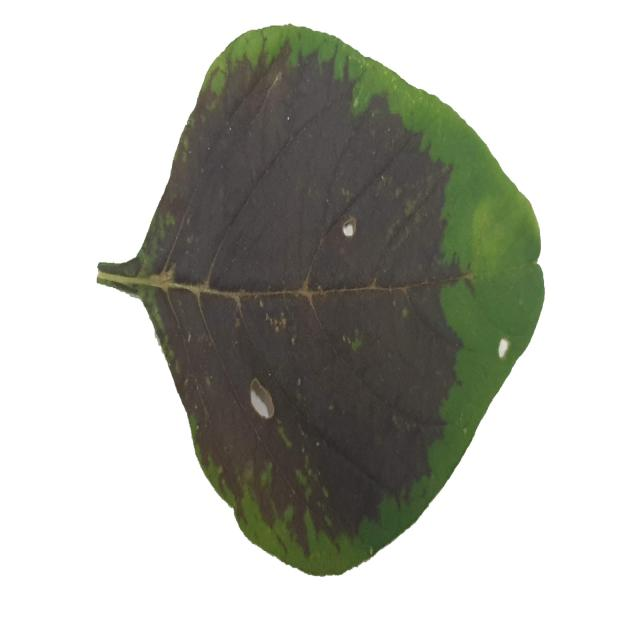Medicinal-Arive Dantu: (93, 18, 546, 577)
